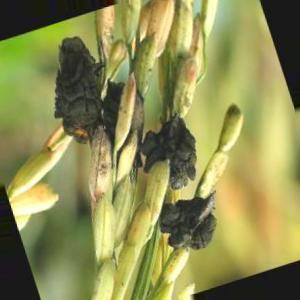Leaf_Scald: (55, 37, 102, 142), (139, 118, 195, 183), (166, 202, 218, 254), (102, 75, 126, 142)
